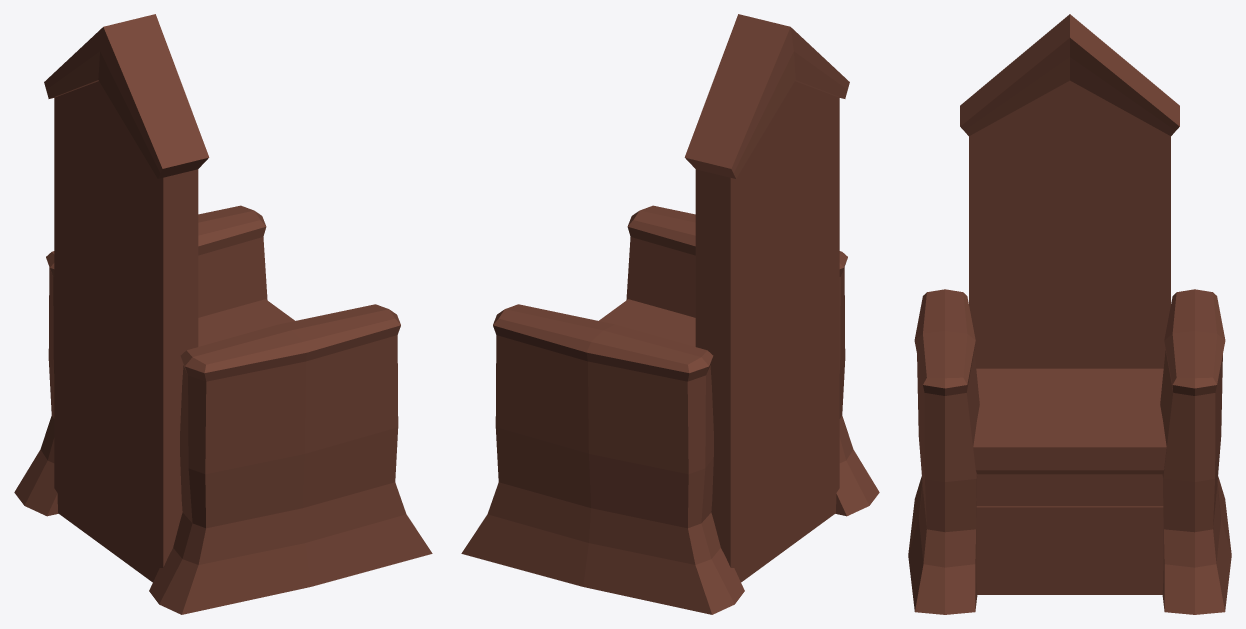
Rendered from Trono Capitano.fbx.
3 renders of one model, left to right at view 1: azimuth 30°, elevation 25°; view 2: azimuth 150°, elevation 25°; view 3: azimuth 270°, elevation 25°, orthographic. The views are drawn at different scales.
Visible parts, largest first — view 1: Cube.002, Cube.001, Cube.003, Cube.004, Cube; view 2: Cube.002, Cube.001, Cube.004, Cube.003, Cube; view 3: Cube.002, Cube, Cube.001, Cube.003, Cube.004.
Boxes of the visible parts, x1,y1,x2,y2 form: Cube.002: [44, 14, 209, 582]; Cube.001: [14, 237, 432, 614]; Cube.003: [180, 304, 400, 381]; Cube.004: [46, 205, 266, 276]; Cube: [198, 299, 294, 346]; Cube.002: [684, 14, 849, 582]; Cube.001: [461, 237, 879, 614]; Cube.004: [493, 304, 713, 381]; Cube.003: [627, 205, 847, 276]; Cube: [599, 299, 695, 346]; Cube.002: [960, 14, 1179, 368]; Cube: [973, 368, 1166, 594]; Cube.001: [908, 350, 1231, 614]; Cube.003: [914, 289, 975, 395]; Cube.004: [1164, 289, 1225, 395].
Bounding box in the file's own units: 176 × 336 × 202.
